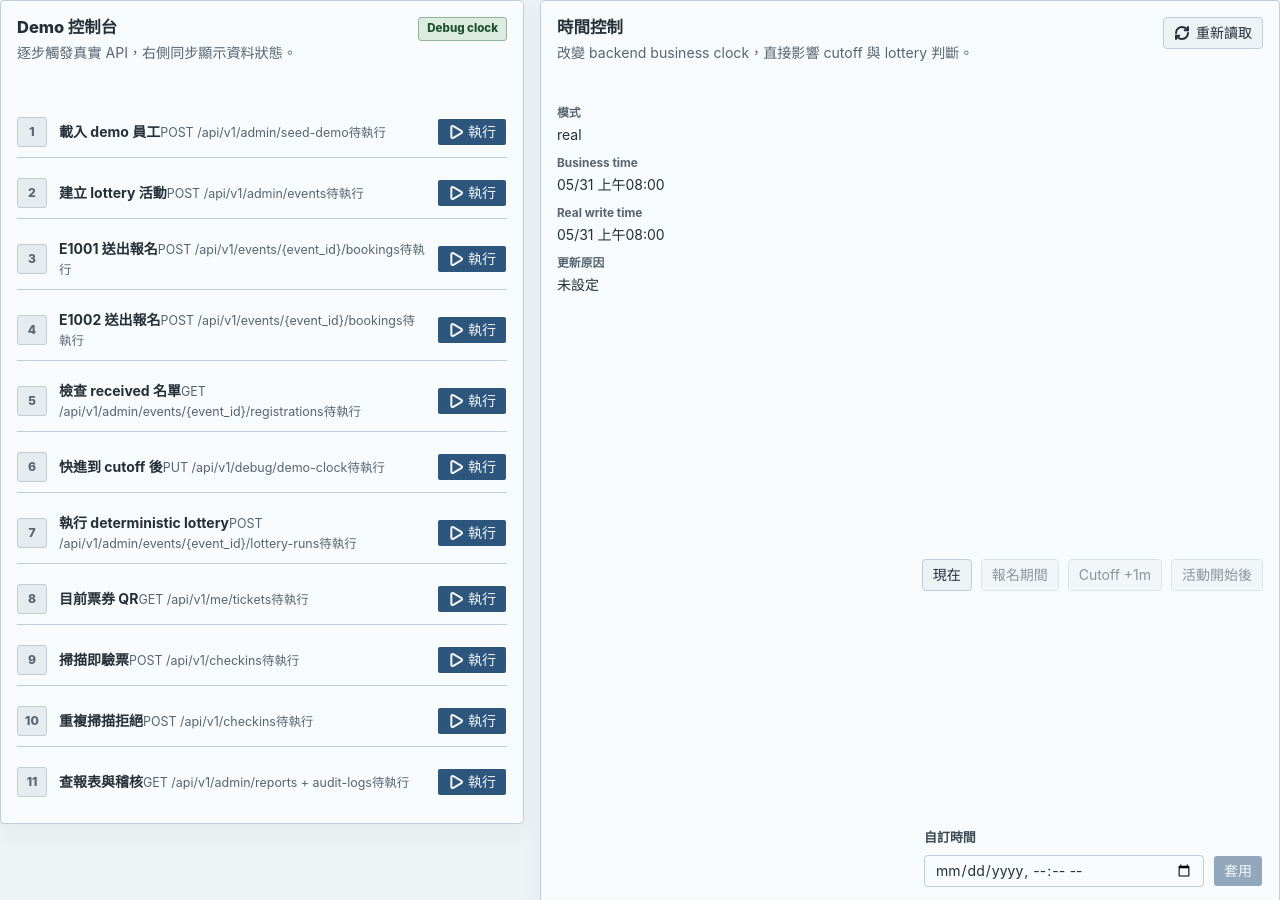
Test case: DemoRunbookPage › restores the provider token snapshot when mock profile selection fails
Click the button "執行" in the row of "建立 lottery 活動" at (472,193), box [437, 179, 507, 207]
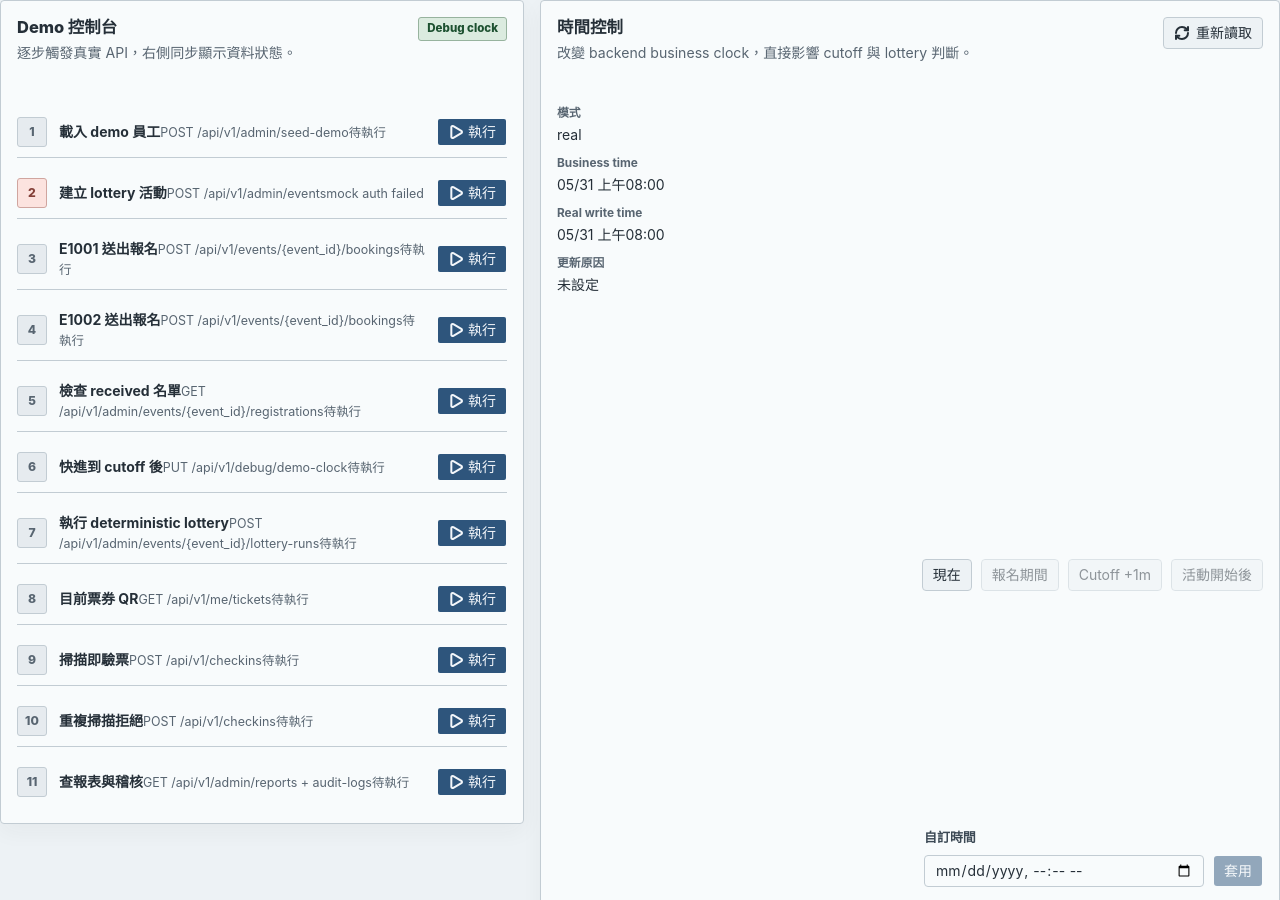
Check: the text "mock auth failed" is shown, box [326, 186, 424, 201]
